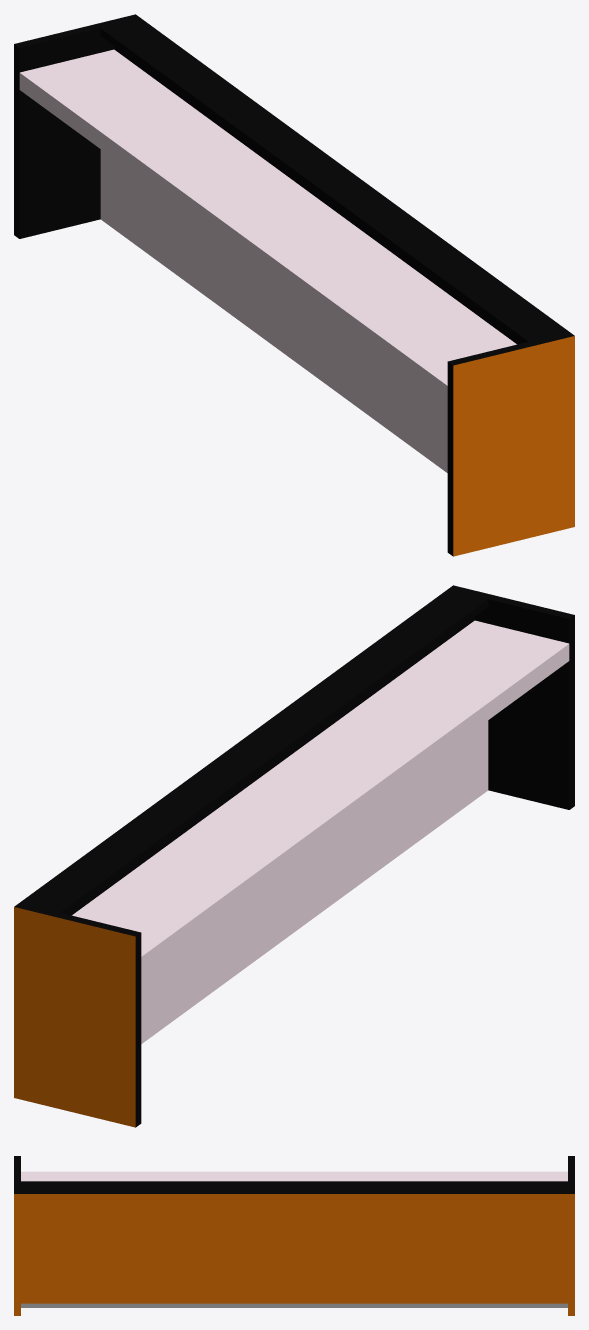
Rendered from FrontDesk.fbx.
The picture shows the model from 3 angles, top to bottom: view 1: azimuth 30°, elevation 25°; view 2: azimuth 150°, elevation 25°; view 3: azimuth 270°, elevation 25°; orthographic projection. The views are drawn at different scales.
Parts seen in each view (by area): view 1: Cube; view 2: Cube; view 3: Cube.
Boxes of the visible parts, x1,y1,x2,y2 form: Cube: [14, 14, 574, 556]; Cube: [14, 585, 574, 1127]; Cube: [14, 1156, 574, 1315].
Size of the model in its own units: 80 by 120 by 500.
